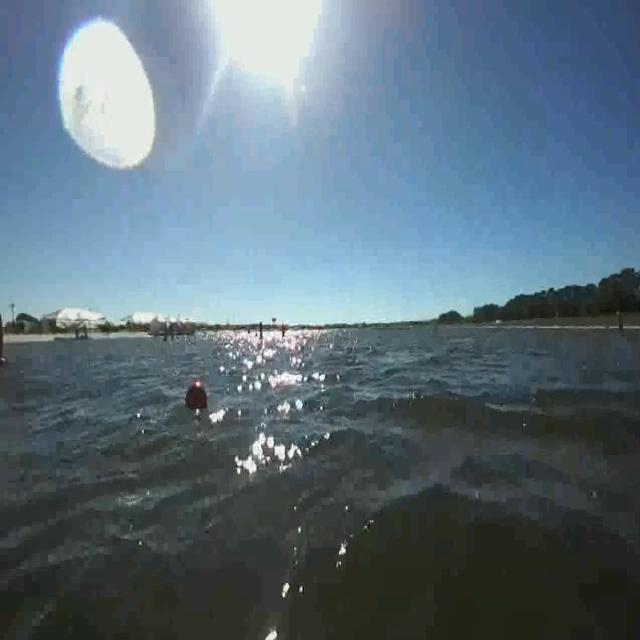red-buoy: (183, 377, 209, 413)
red-column-buoy: (0, 313, 7, 367)
